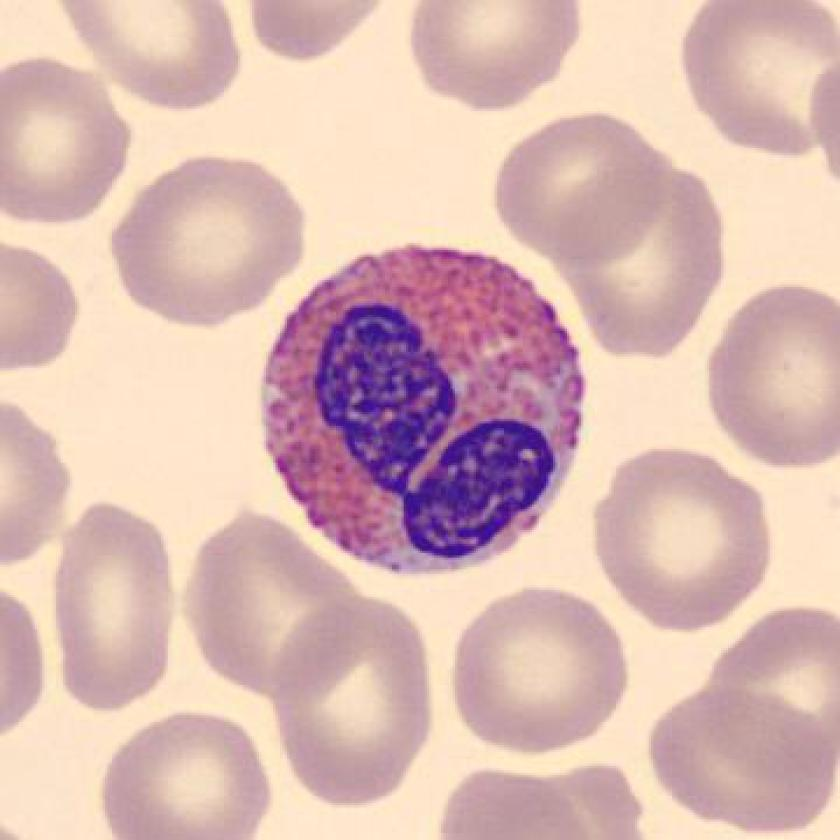eosinophil: (248, 240, 596, 587)
